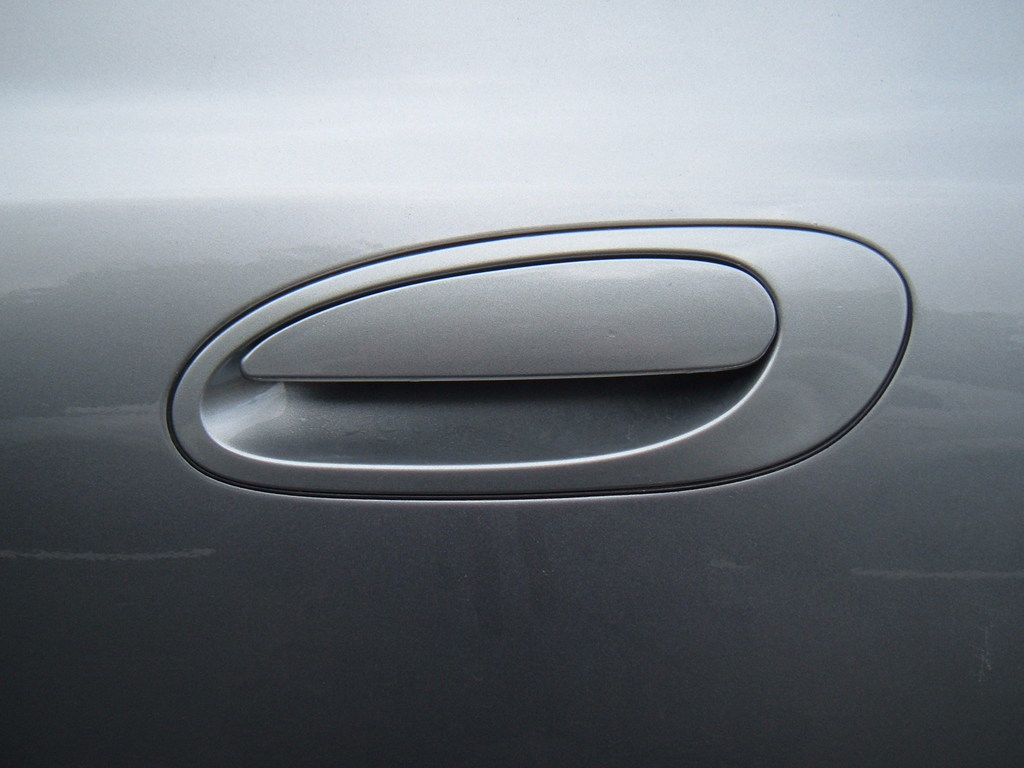handle: (242, 228, 778, 410)
